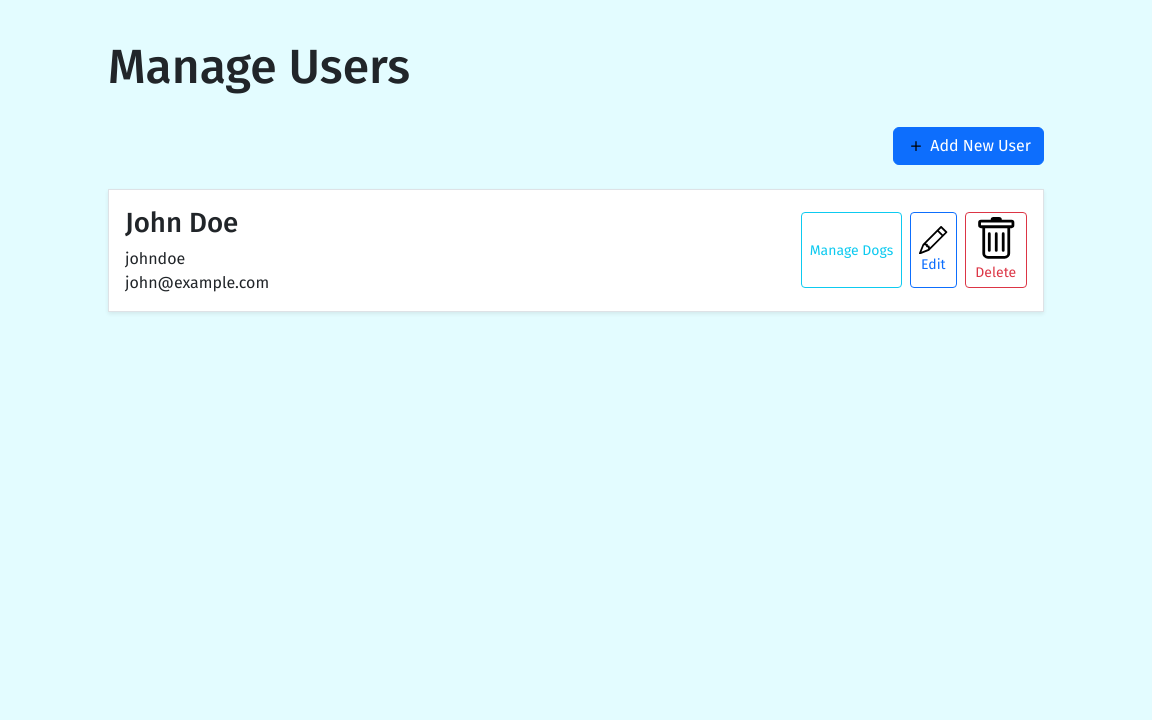
Test: ManageUsers Component › displays an error when fetching user dogs fails
Expected: the heading "John Doe" is shown, [125, 206, 238, 239]
Step 1. Click the button "Manage Dogs" → (851, 250), box [801, 212, 902, 288]
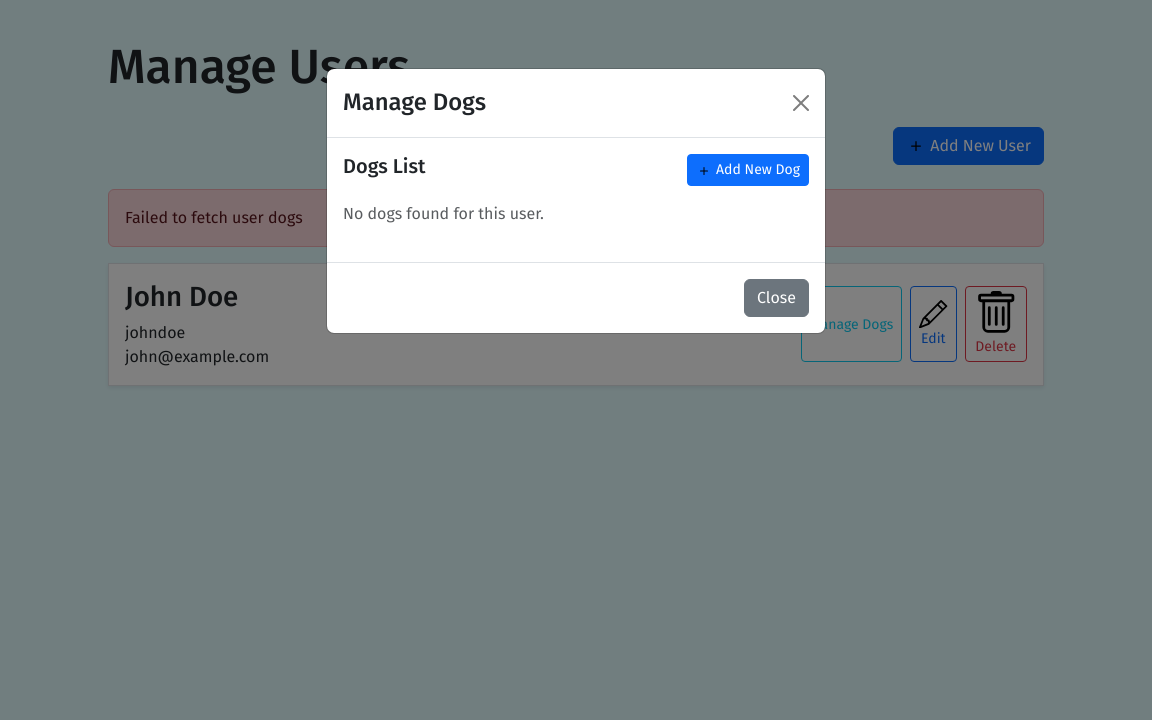
Expected: the text "Failed to fetch user dogs" is shown, [108, 189, 1044, 247]
